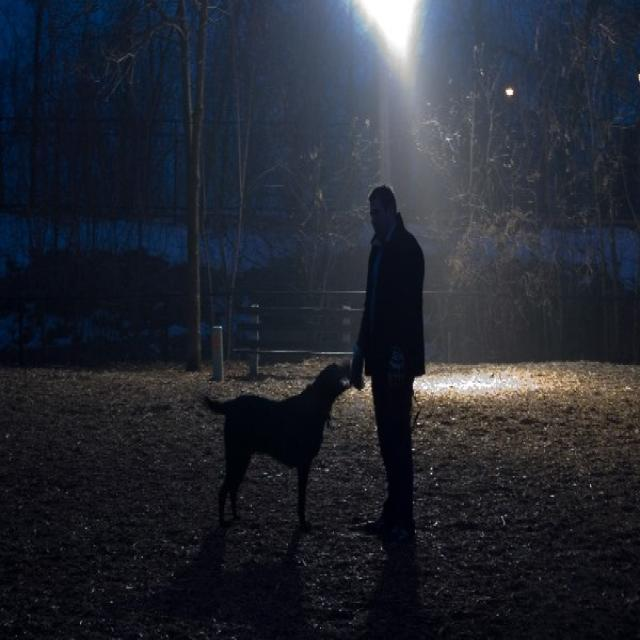People: (351, 148, 449, 549)
dog: (196, 323, 384, 531)
